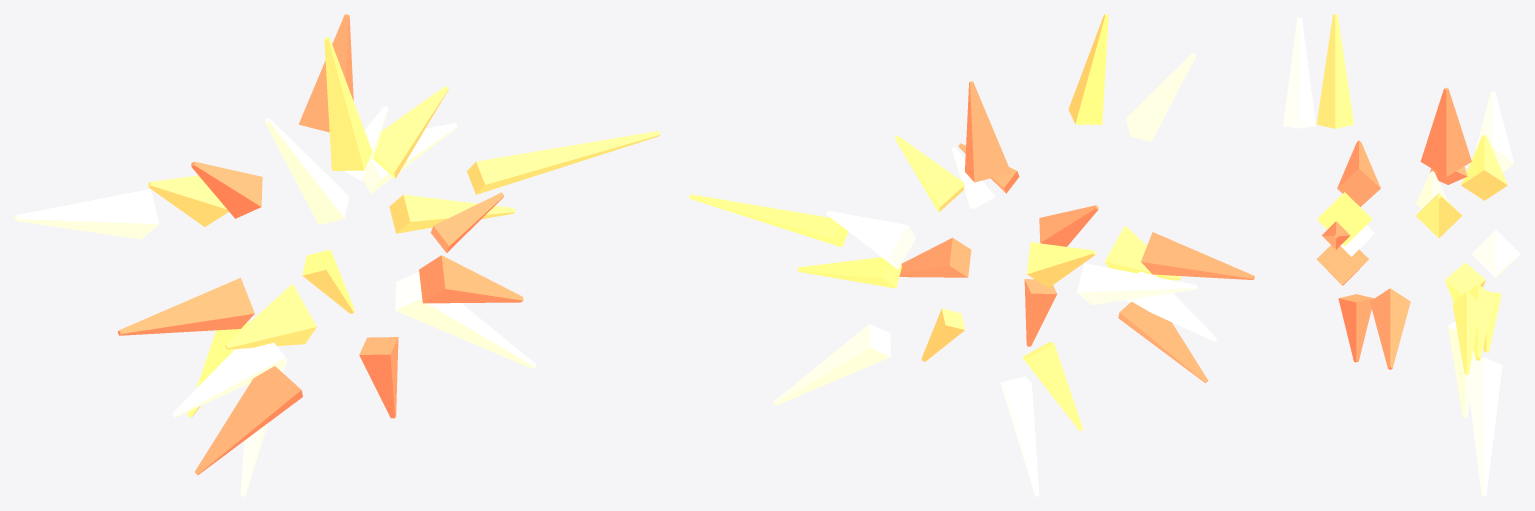
The model's file is sunburst.glb.
3 views of the same model, side by side, from view 1: azimuth 30°, elevation 25°; view 2: azimuth 150°, elevation 25°; view 3: azimuth 270°, elevation 25° (orthographic). The views are drawn at different scales.
Visible parts, largest first — view 1: Sunset Burst dimensional effect.001; view 2: Sunset Burst dimensional effect.001; view 3: Sunset Burst dimensional effect.001.
Boxes of the visible parts, x1=… form: Sunset Burst dimensional effect.001: x1=14, y1=14, x2=660, y2=496; Sunset Burst dimensional effect.001: x1=689, y1=14, x2=1254, y2=496; Sunset Burst dimensional effect.001: x1=1283, y1=14, x2=1520, y2=496.
Size of the model in its own units: 1.4 by 1.11 by 0.5938.
